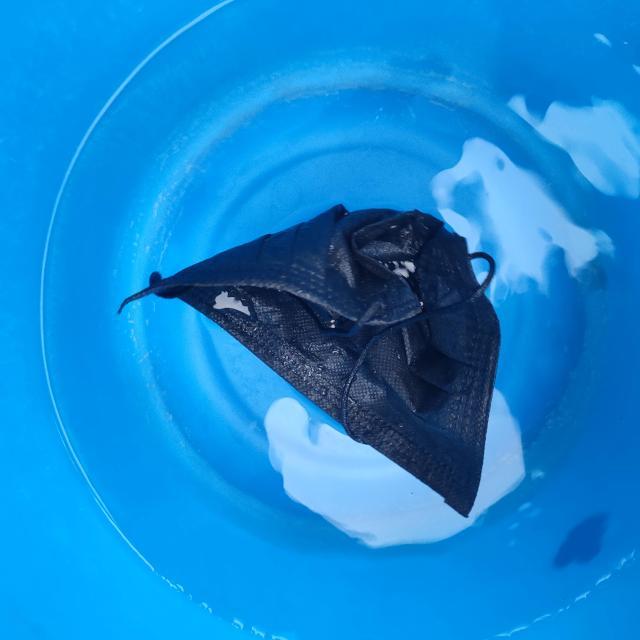mask: (102, 163, 527, 535)
